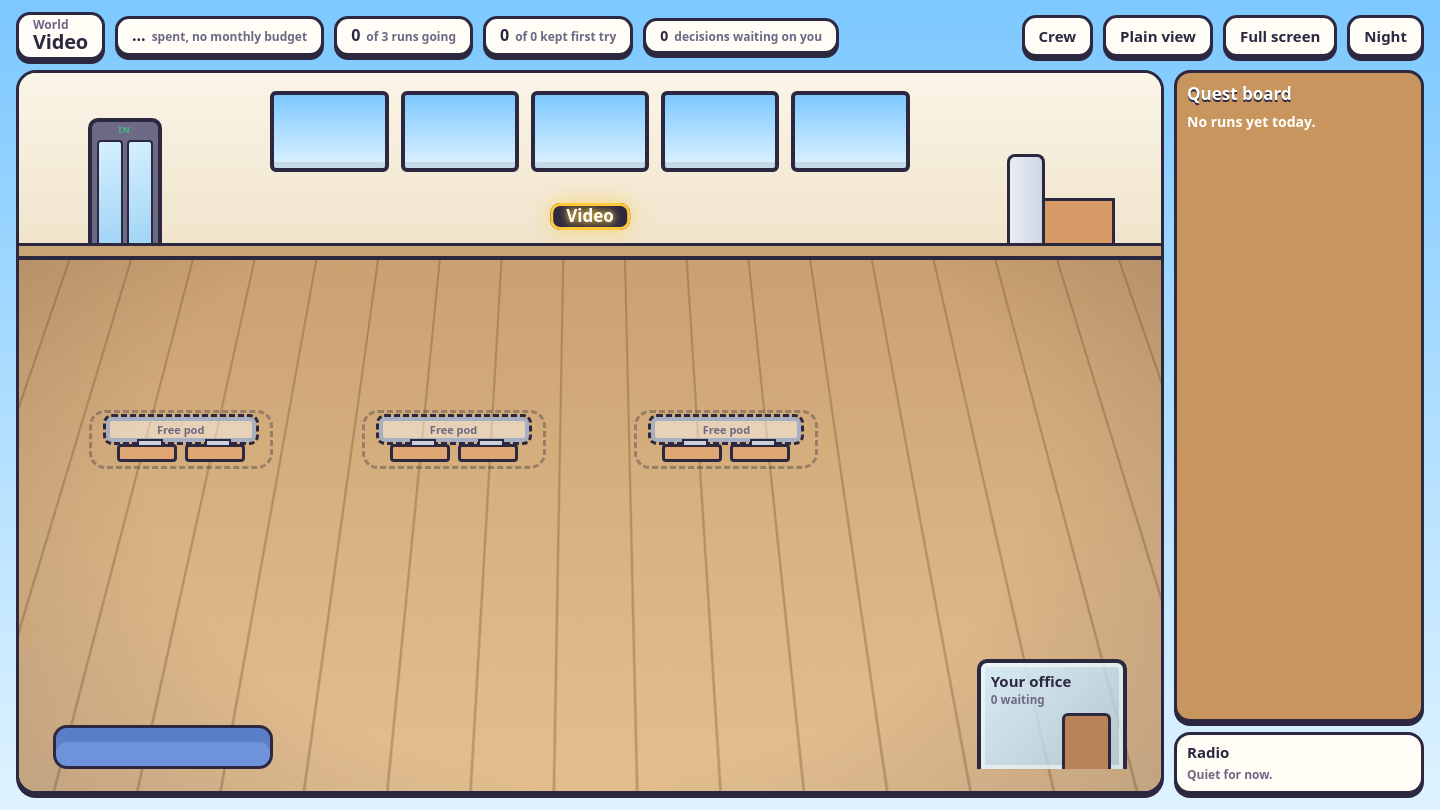
Test: a refused switch stays put and says so
Click the button "Plain view": (1158, 36) 1103,15 -> 1213,57
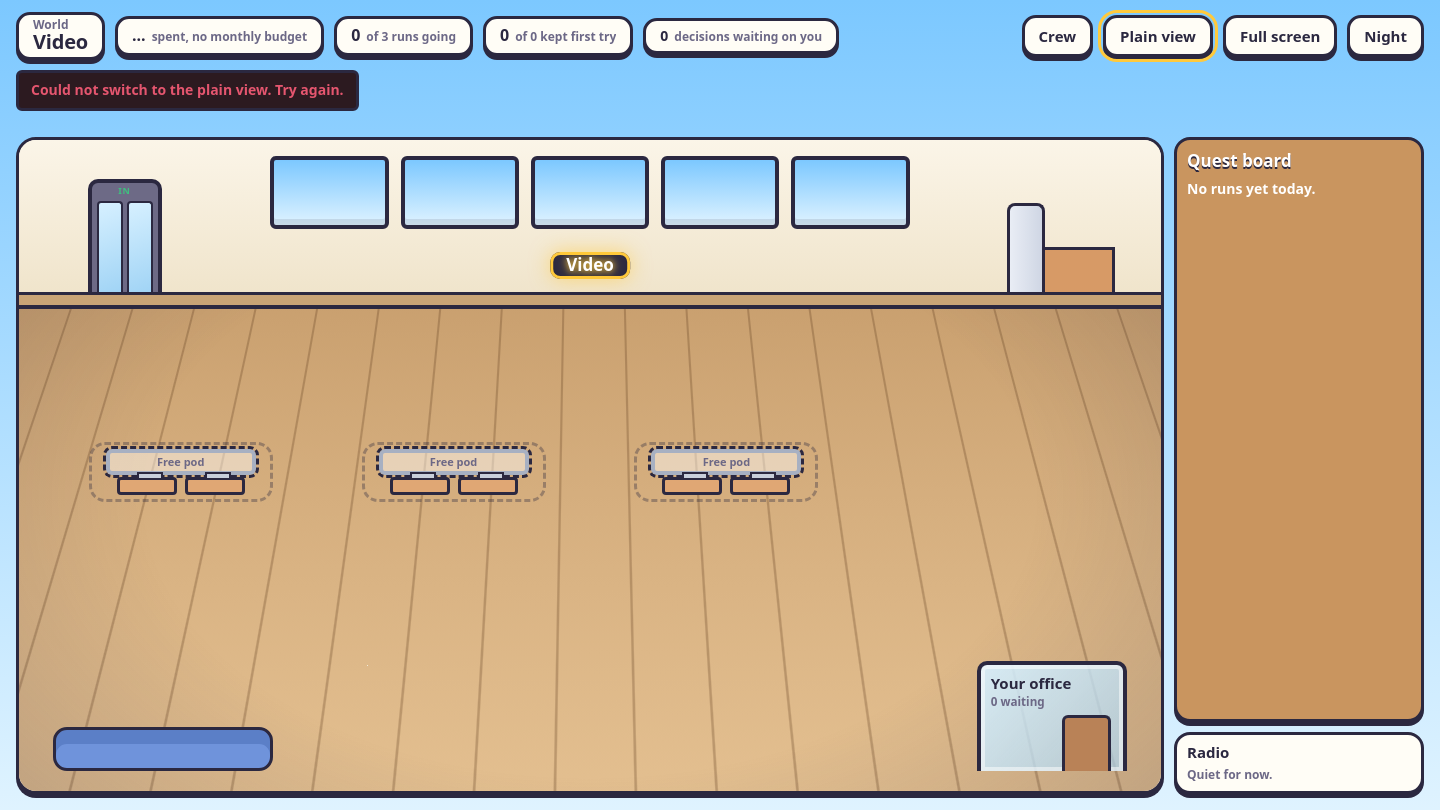
Expected: the message reads "Could not switch to the plain view. Try again.", 31,80 -> 344,99
